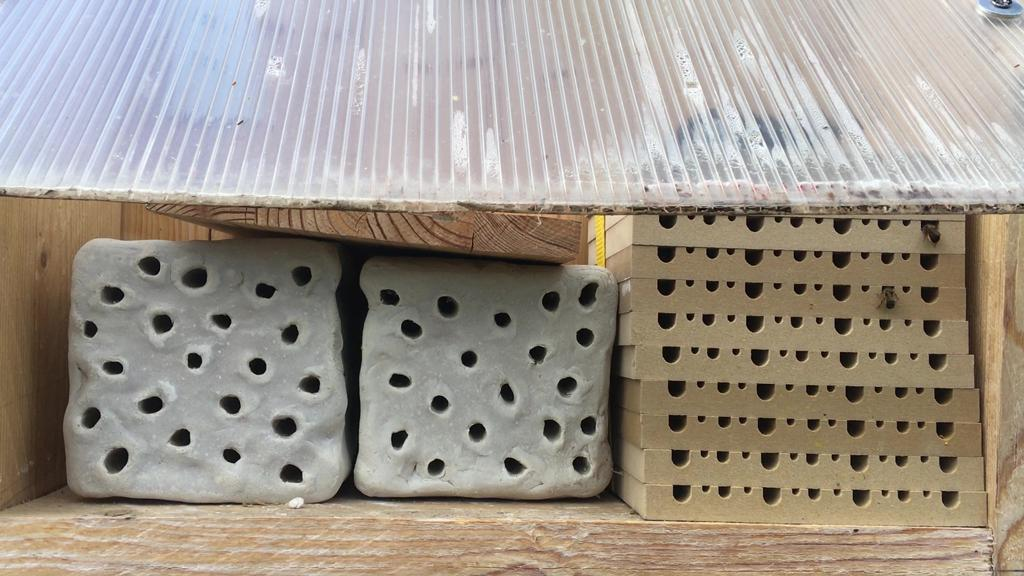bee: (915, 211, 951, 253), (873, 281, 903, 315)
